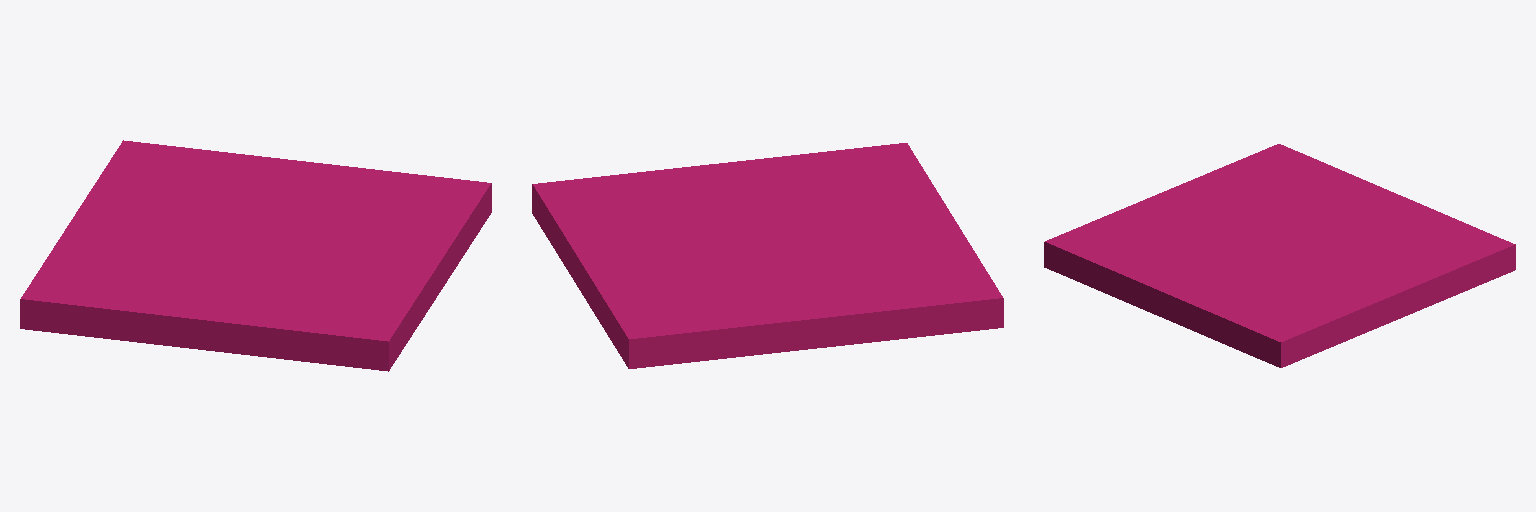
URDF robot description (Interference):
<?xml version="1.0"?>
<robot name="Interference">
  <link name="baseLink">
    <inertial>
      <origin xyz="0.0 0.0 0.0" rpy="0.0 0.0 0.0"/>
      <inertia ixx="0.0" ixy="0.0" ixz="0.0" iyy="0.0" iyz="0.0" izz="0.0"/>
      <mass value="0"/>
    </inertial>
    <visual>
      <origin xyz="0.0 0.0 0.0" rpy="0.0 0.0 0.7800412804455097"/>
      <geometry>
        <box size="0.11746693617517569 0.1153019489790383 0.01"/>
      </geometry>
      <material name="color">
        <color rgba="0.7864350402403232 0.17460050869018895 0.47709397073663307 1.0"/>
      </material>
    </visual>
  </link>
</robot>

--- What the picture shows (computed from the rendered views, not written in the file) ---
The picture shows the robot from 3 angles, left to right: view 1: azimuth 30°, elevation 25°; view 2: azimuth 150°, elevation 25°; view 3: azimuth 270°, elevation 25°; orthographic projection.
Model Interference with 1 links and 0 joints (none), rooted at baseLink, posed all joints at 0.
Links seen in each view (by area): view 1: baseLink; view 2: baseLink; view 3: baseLink.
Boxes of the visible links, x1,y1,x2,y2 form: baseLink: (20,140,491,371); baseLink: (532,143,1003,368); baseLink: (1044,144,1515,367).
Bounding box of the posed robot: 0.1646 × 0.1646 × 0.01 m (x, y, z).
Geometry: primitives only (box / cylinder / sphere), no mesh files.